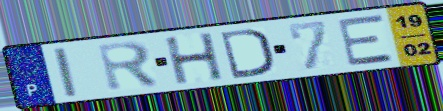7: (285, 19, 330, 73)
D: (217, 26, 275, 80)
E: (335, 13, 398, 68)
H: (162, 30, 227, 86)
I: (50, 45, 81, 99)
R: (95, 39, 163, 94)
